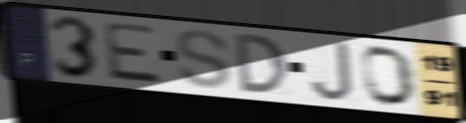3: (48, 14, 100, 81)
D: (232, 31, 292, 96)
E: (101, 20, 166, 86)
J: (308, 40, 356, 103)
O: (359, 44, 419, 109)
S: (173, 27, 234, 91)
